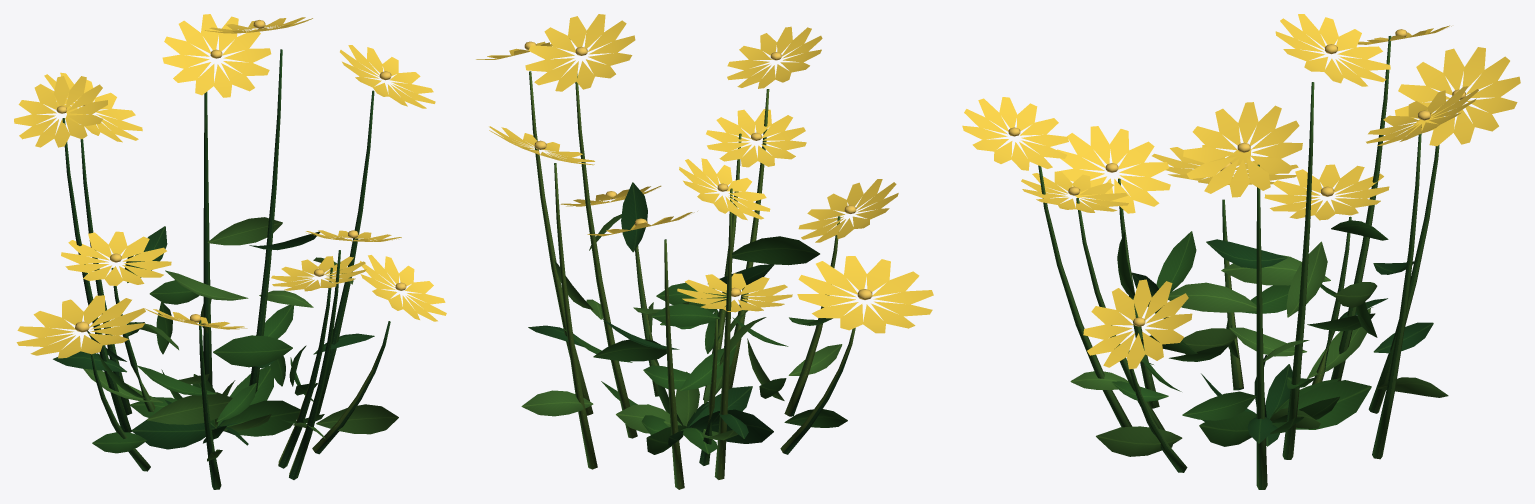
File: Yellow_wildflowers_1.glb
3 views of the same model, side by side, from view 1: azimuth 30°, elevation 25°; view 2: azimuth 150°, elevation 25°; view 3: azimuth 270°, elevation 25° (orthographic). The views are drawn at different scales.
Visible parts, largest first — view 1: Yellow_wildflowers_1_Flowers.003, Yellow_wildflowers_1_Leaves.004, Yellow_wildflowers_1_Stems.004, Yellow_wildflowers_1_Centers.003; view 2: Yellow_wildflowers_1_Flowers.003, Yellow_wildflowers_1_Leaves.004, Yellow_wildflowers_1_Stems.004, Yellow_wildflowers_1_Centers.003; view 3: Yellow_wildflowers_1_Flowers.003, Yellow_wildflowers_1_Leaves.004, Yellow_wildflowers_1_Stems.004, Yellow_wildflowers_1_Centers.003.
Part boxes in pixels (x1,y1,x2,y2): Yellow_wildflowers_1_Flowers.003: (14, 14, 446, 358); Yellow_wildflowers_1_Leaves.004: (53, 217, 398, 461); Yellow_wildflowers_1_Stems.004: (62, 49, 390, 489); Yellow_wildflowers_1_Centers.003: (56, 20, 406, 332); Yellow_wildflowers_1_Flowers.003: (476, 14, 933, 333); Yellow_wildflowers_1_Leaves.004: (521, 182, 847, 454); Yellow_wildflowers_1_Stems.004: (529, 71, 855, 489); Yellow_wildflowers_1_Centers.003: (524, 41, 872, 299); Yellow_wildflowers_1_Flowers.003: (962, 14, 1520, 369); Yellow_wildflowers_1_Leaves.004: (1070, 220, 1448, 456); Yellow_wildflowers_1_Stems.004: (1038, 36, 1439, 489); Yellow_wildflowers_1_Centers.003: (1008, 29, 1465, 326).
Size of the model in its own units: 1.12 by 1.02 by 1.15.
3 materials, 1 textured.
